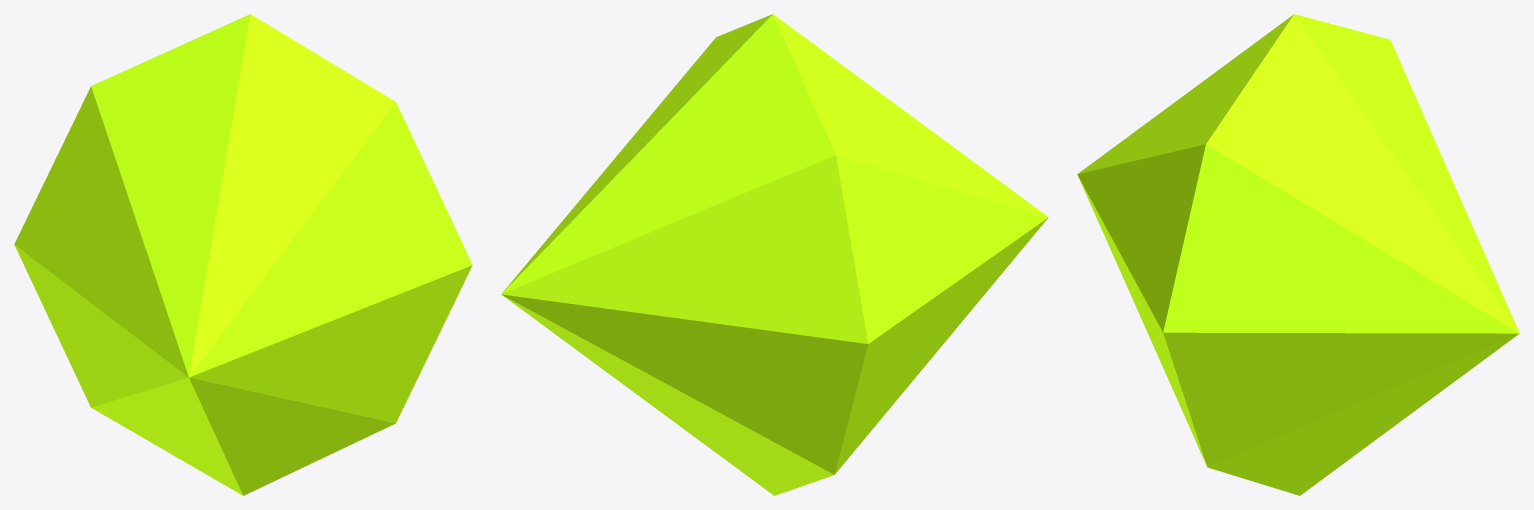
The picture shows the model from 3 angles, left to right: view 1: azimuth 30°, elevation 25°; view 2: azimuth 150°, elevation 25°; view 3: azimuth 270°, elevation 25°; orthographic projection.
Parts seen in each view (by area): view 1: Cube; view 2: Cube; view 3: Cube.
Part boxes in pixels (x1,y1,x2,y2): Cube: (14,14,472,495); Cube: (501,14,1048,495); Cube: (1077,14,1519,495).
Bounding box in the file's own units: 162 × 226 × 187.
